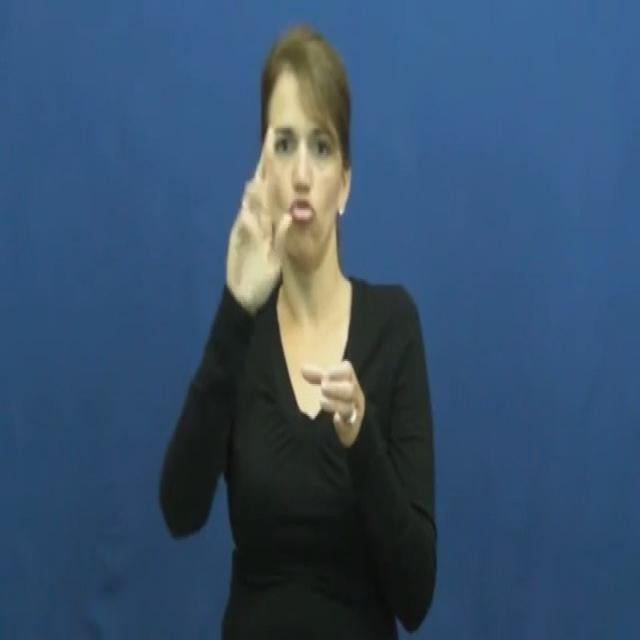straw: (212, 121, 374, 465)
